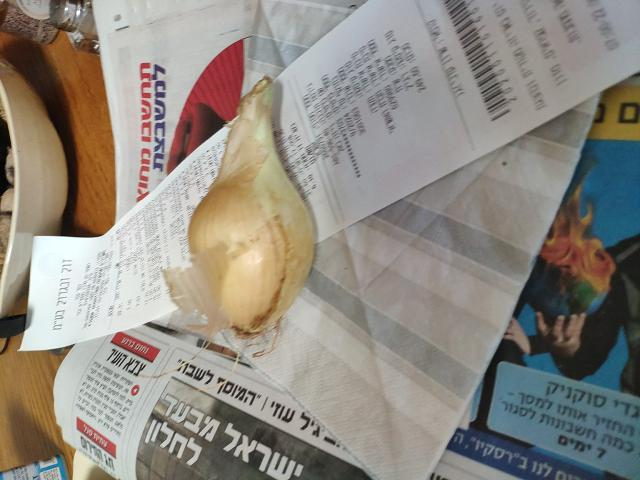onion: (192, 109, 306, 338)
